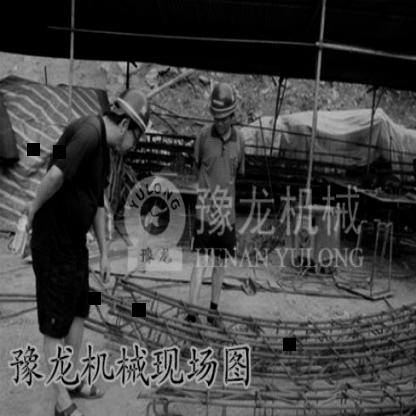helmet: (106, 84, 156, 154), (207, 80, 238, 134)
